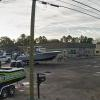Boat: (14, 48, 58, 67)
